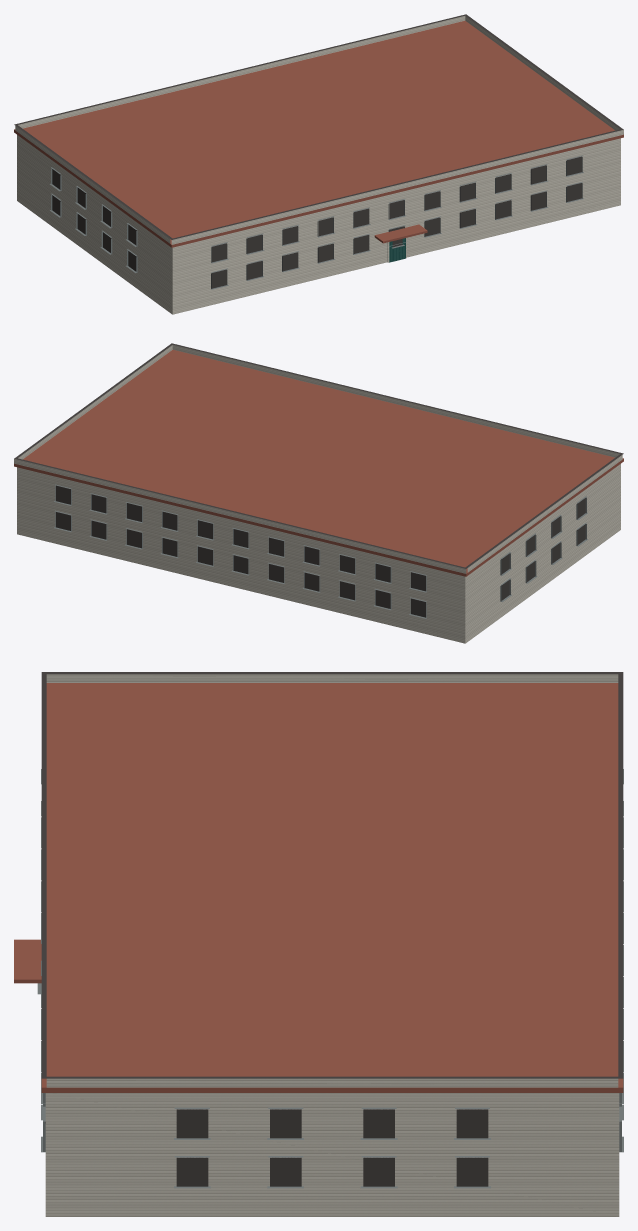
File: cyxd_north_shop_lod1.gltf
The picture shows the model from 3 angles, top to bottom: view 1: azimuth 30°, elevation 25°; view 2: azimuth 150°, elevation 25°; view 3: azimuth 270°, elevation 25°; orthographic projection. The views are drawn at different scales.
Parts seen in each view (by area): view 1: cyxd_north_shop; view 2: cyxd_north_shop; view 3: cyxd_north_shop.
Part boxes in pixels (x1,y1,x2,y2): cyxd_north_shop: [14, 14, 623, 314]; cyxd_north_shop: [14, 343, 623, 643]; cyxd_north_shop: [14, 672, 623, 1216].
Size of the model in its own units: 48.73 by 7.8 by 30.84.
